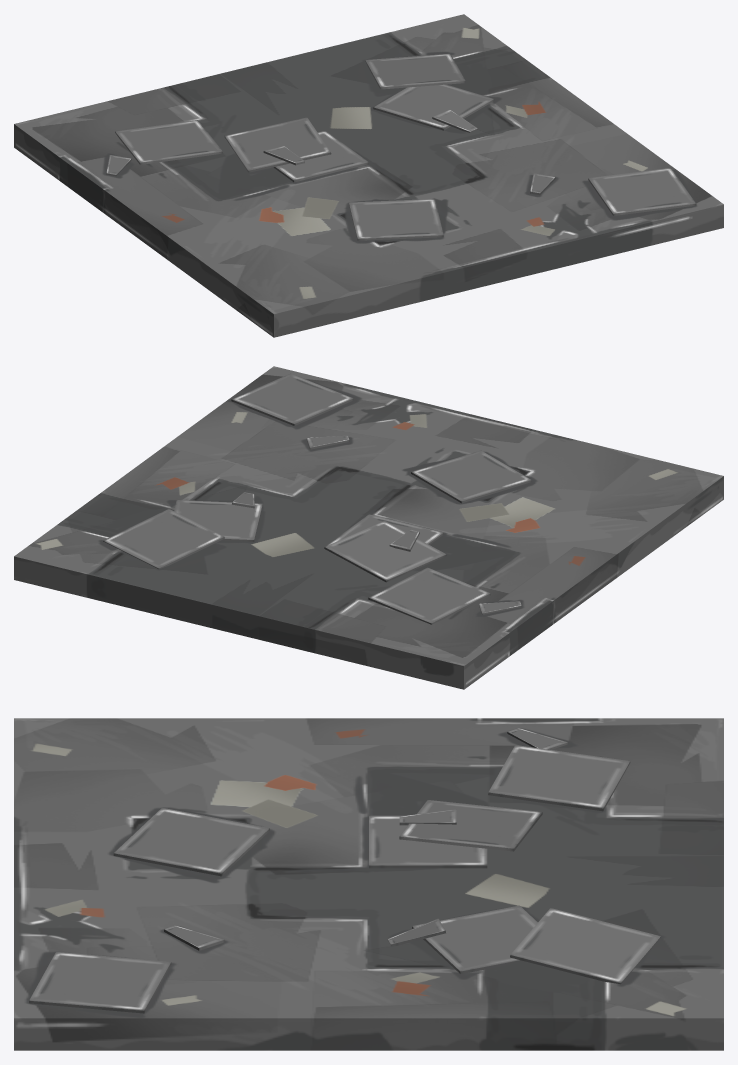
Rendered from Floor_1.glb.
3 views of the same model, one above another, from view 1: azimuth 30°, elevation 25°; view 2: azimuth 150°, elevation 25°; view 3: azimuth 270°, elevation 25° (orthographic). The views are drawn at different scales.
Parts seen in each view (by area): view 1: Floor_1; view 2: Floor_1; view 3: Floor_1.
Part boxes in pixels (bbox=[...]): Floor_1: bbox=[14, 14, 723, 337]; Floor_1: bbox=[14, 366, 723, 689]; Floor_1: bbox=[14, 718, 723, 1050].
Bounding box in the file's own units: 2 × 0.1431 × 2.
1 material, 1 textured.
